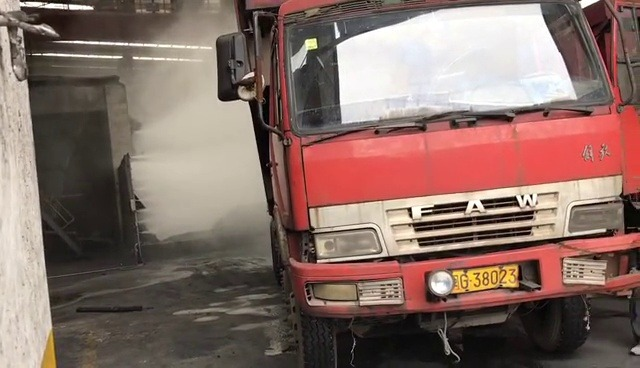dust: (115, 7, 257, 240)
truck: (221, 0, 640, 363)
